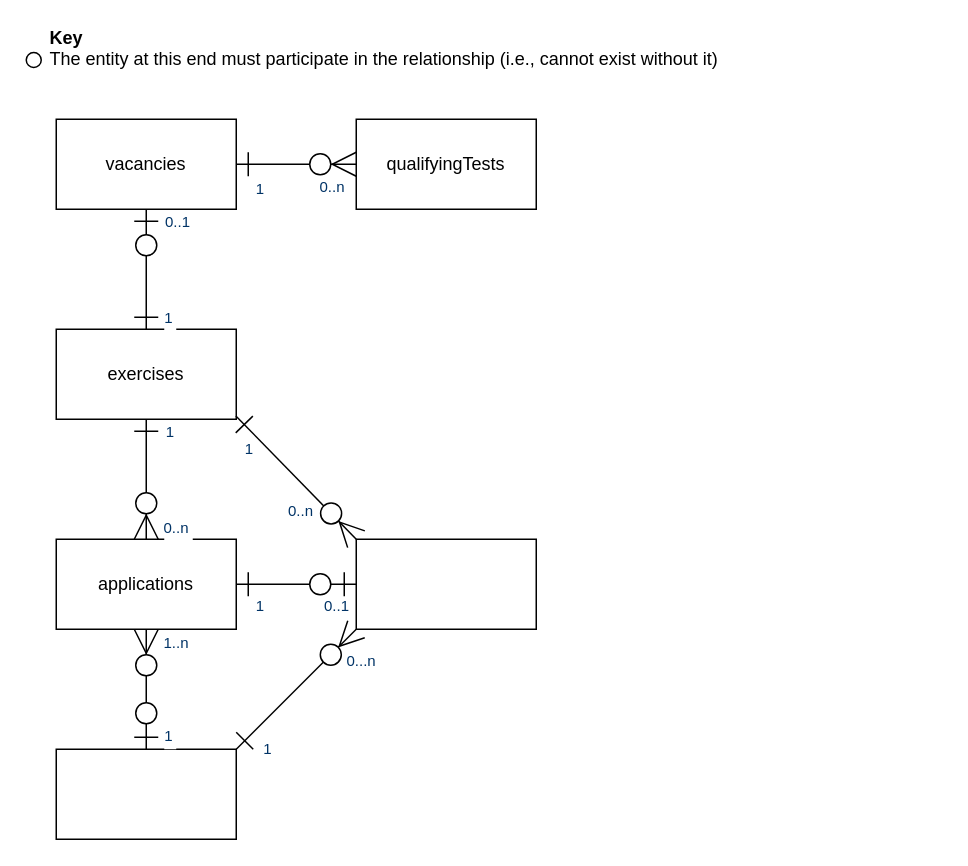
The diagram is 968 pixels wide and 866 high, and some of its shapes have lost their labels. Each missing label, with the centre of its shape:
applicationRecords: point 445,583
candidates: point 145,793
